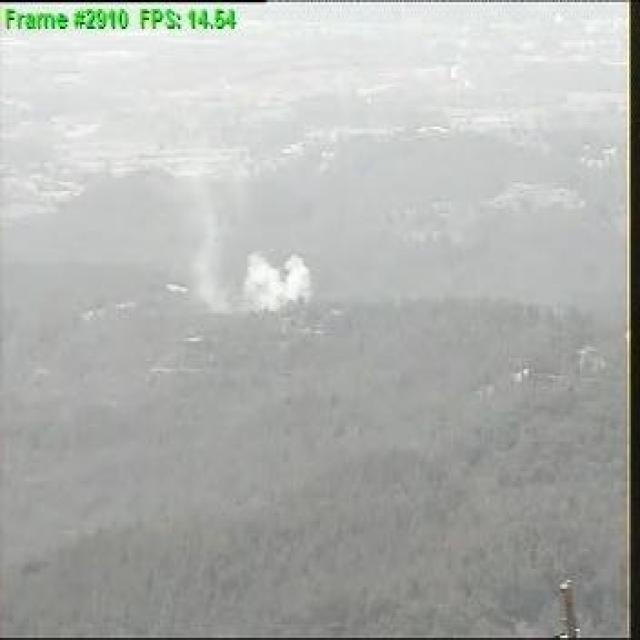Smoke: (192, 250, 312, 312)
